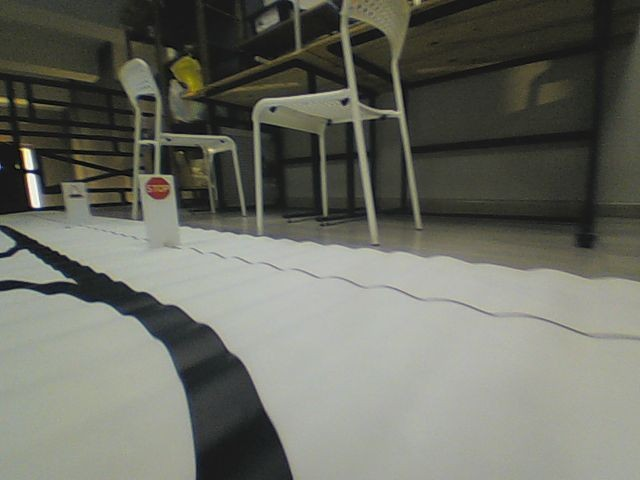Stop: (144, 176, 170, 200)
